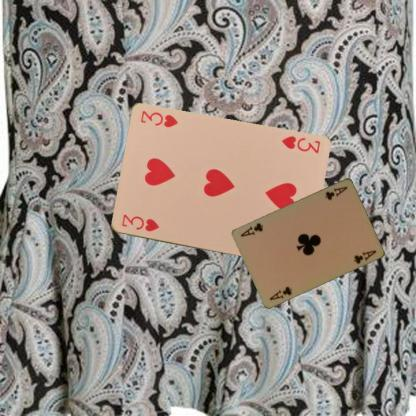3h: (278, 133, 322, 155), (118, 212, 160, 234)
Ac: (322, 184, 349, 201), (266, 284, 293, 301)
